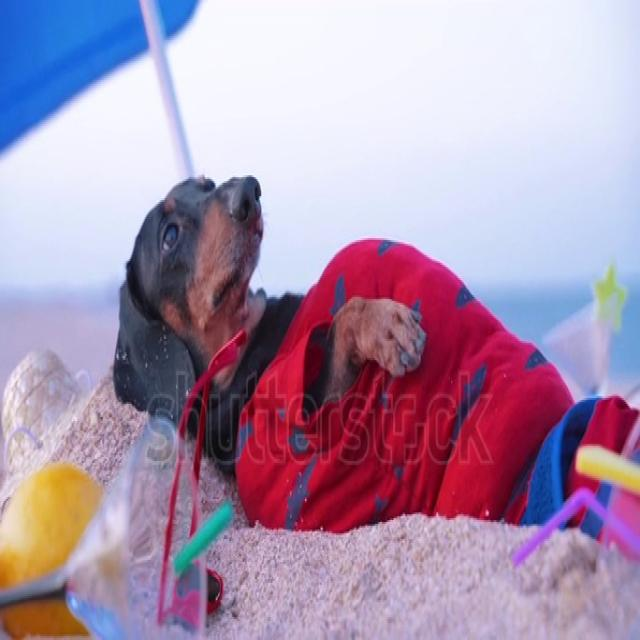normal_animals: (108, 164, 637, 564)
